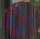No Stopping: (2, 0, 38, 38)
